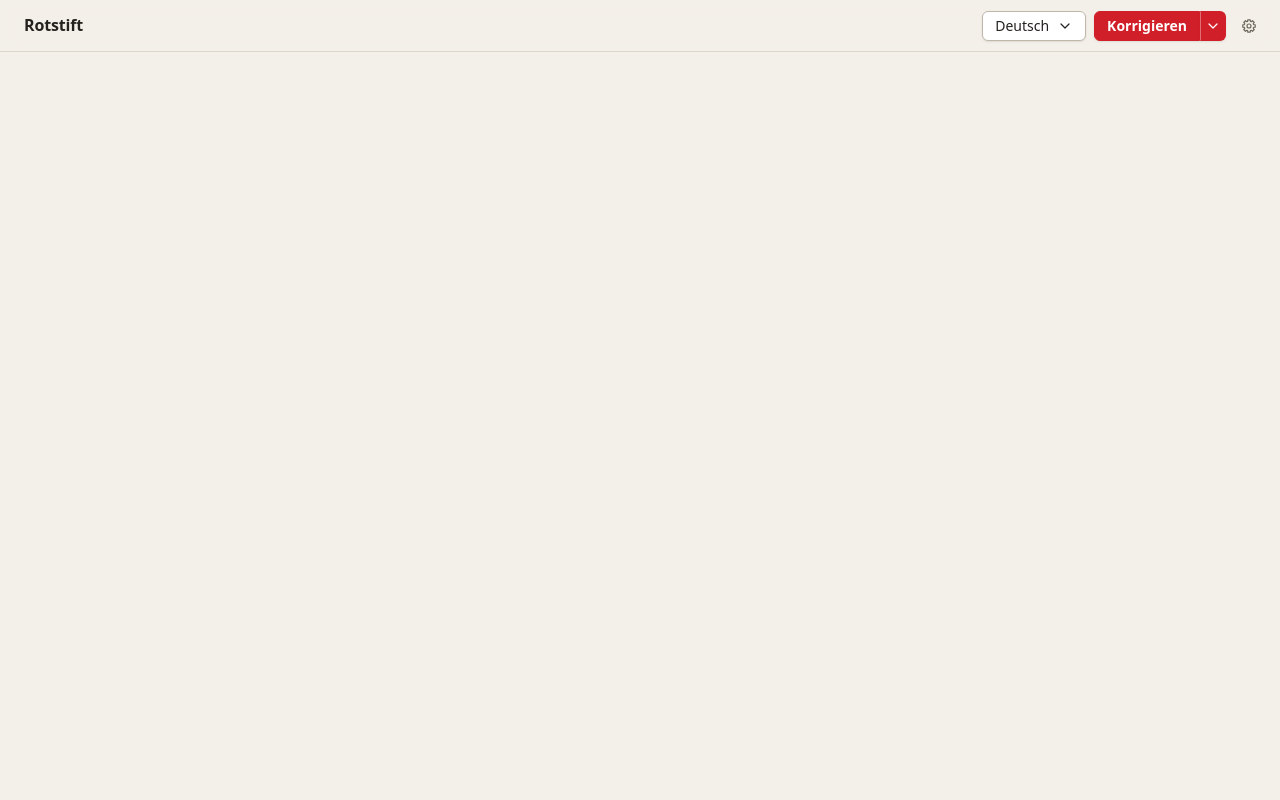
Test: Header › closes the choice with Escape and with a click outside
Click the button "Deutsch".
click(1034, 26)  # box [982,10,1086,40]
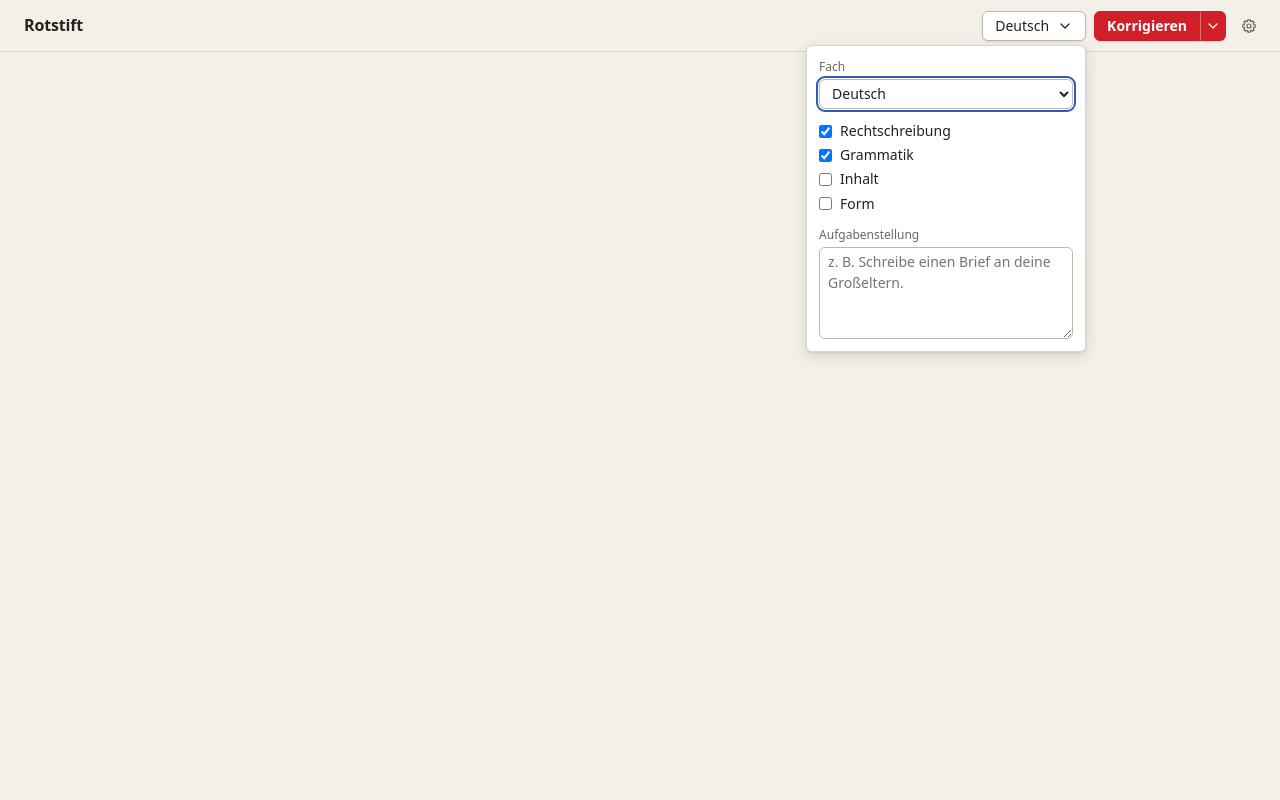
Press Escape in the dropdown labelled "Fach", box [819,79,1073,109]
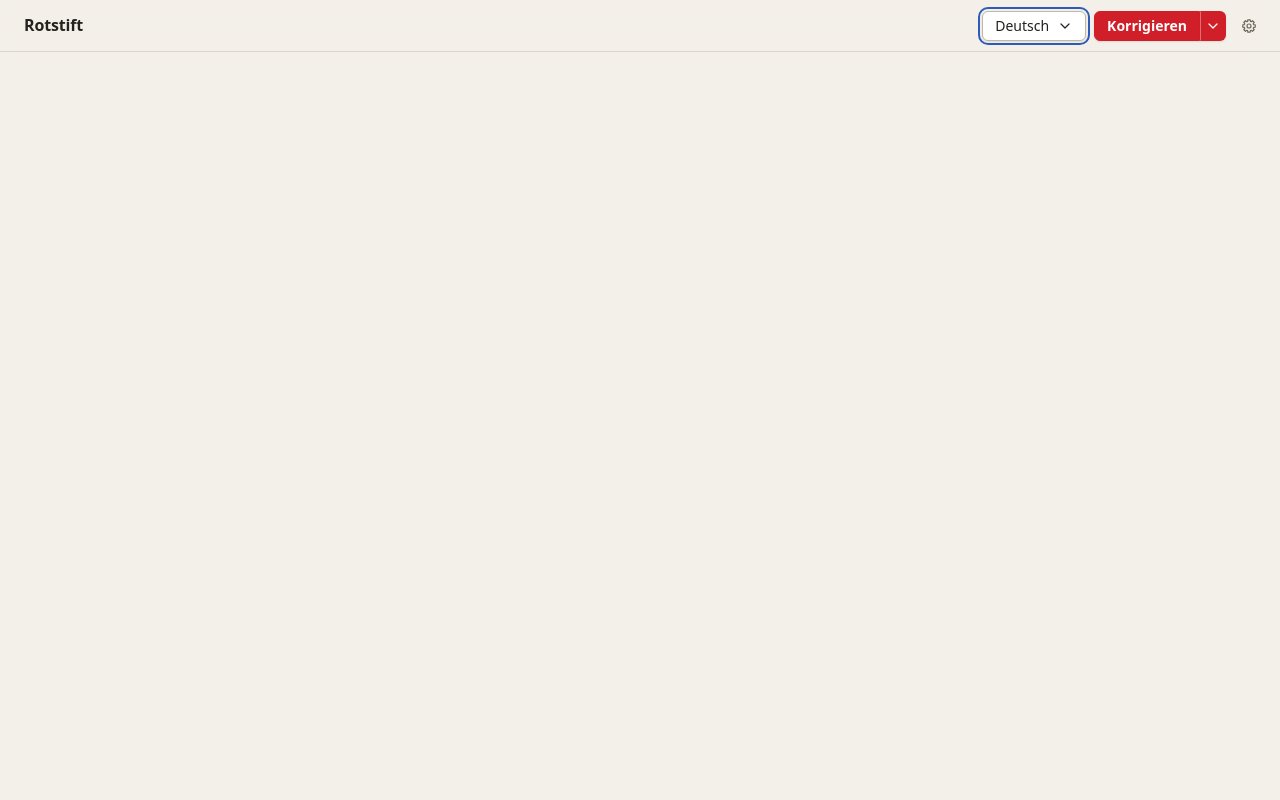
expect the dropdown is gone: met
Click the button "Deutsch".
click(1034, 26)  # box [982,10,1086,40]
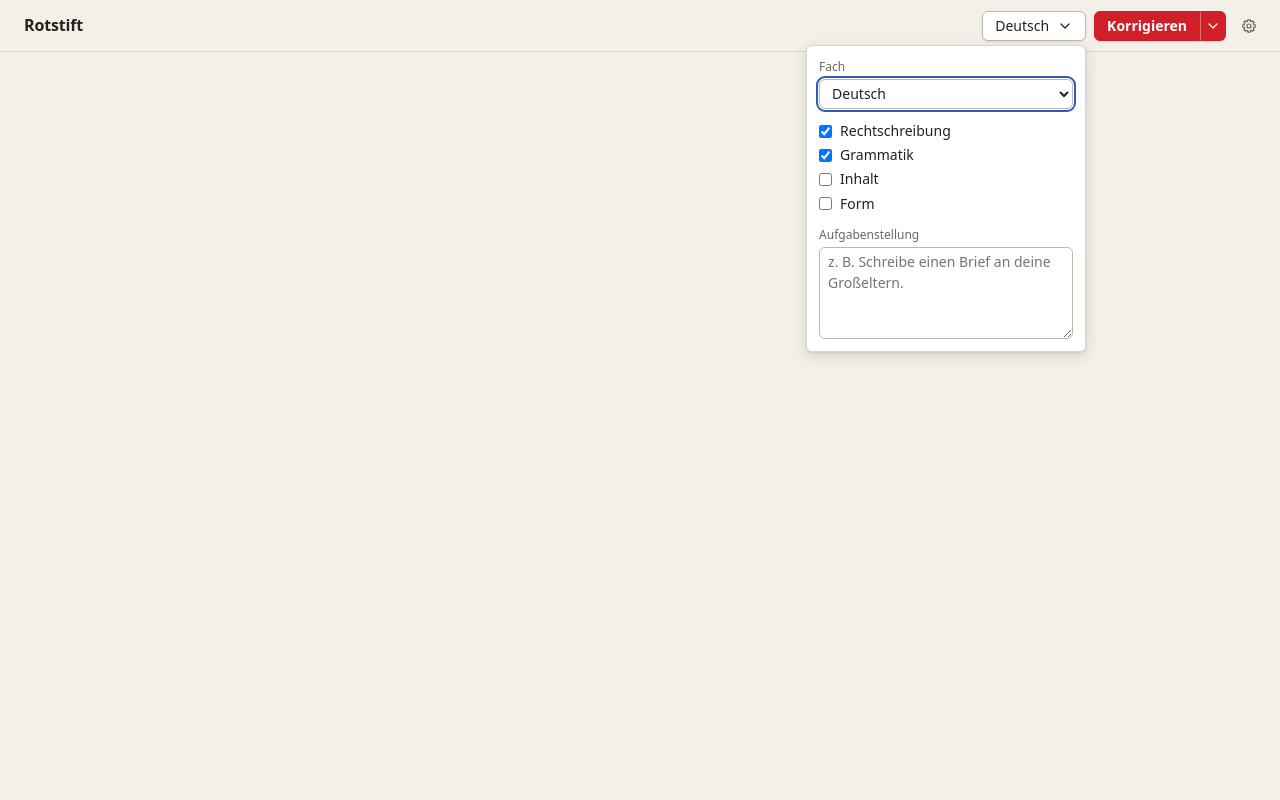
Press the mouse on the element that starts with "Rotstift" at [640, 26], box [0,0,1279,52]
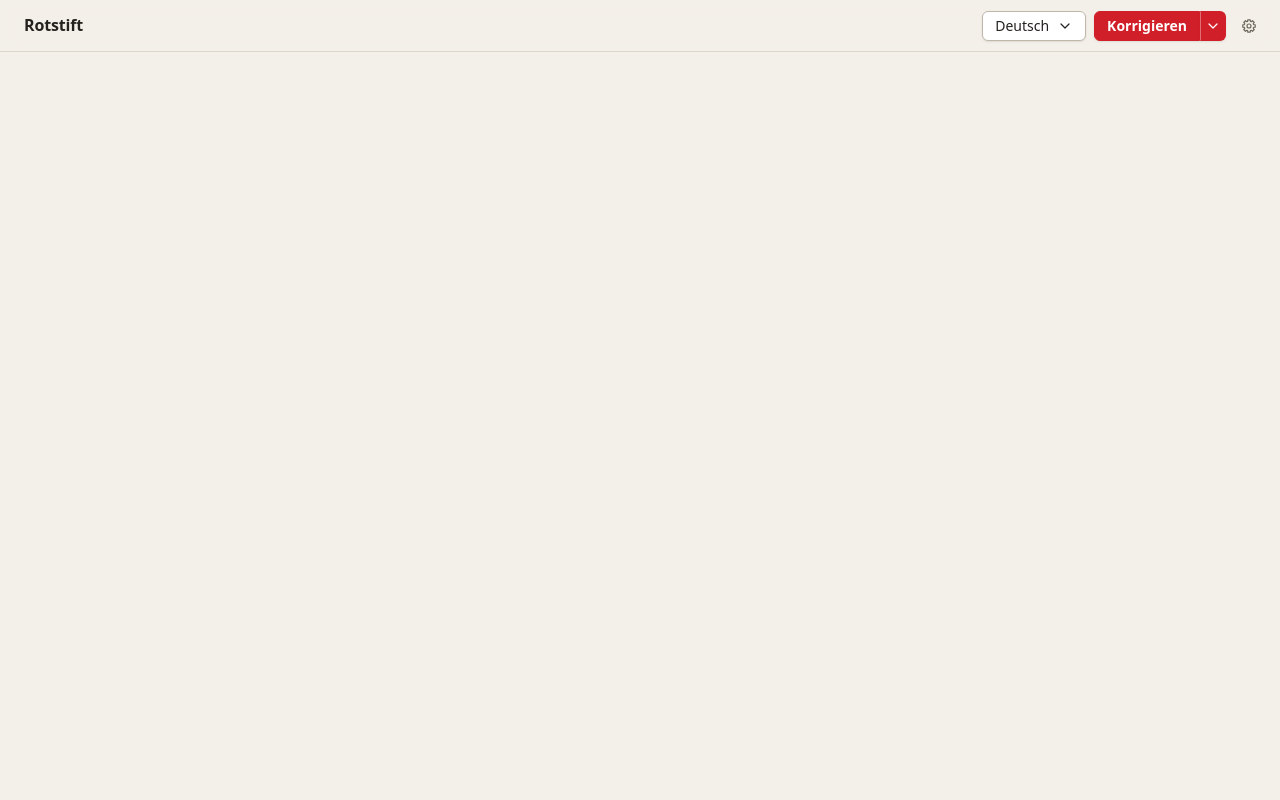
expect the dropdown is gone: met
